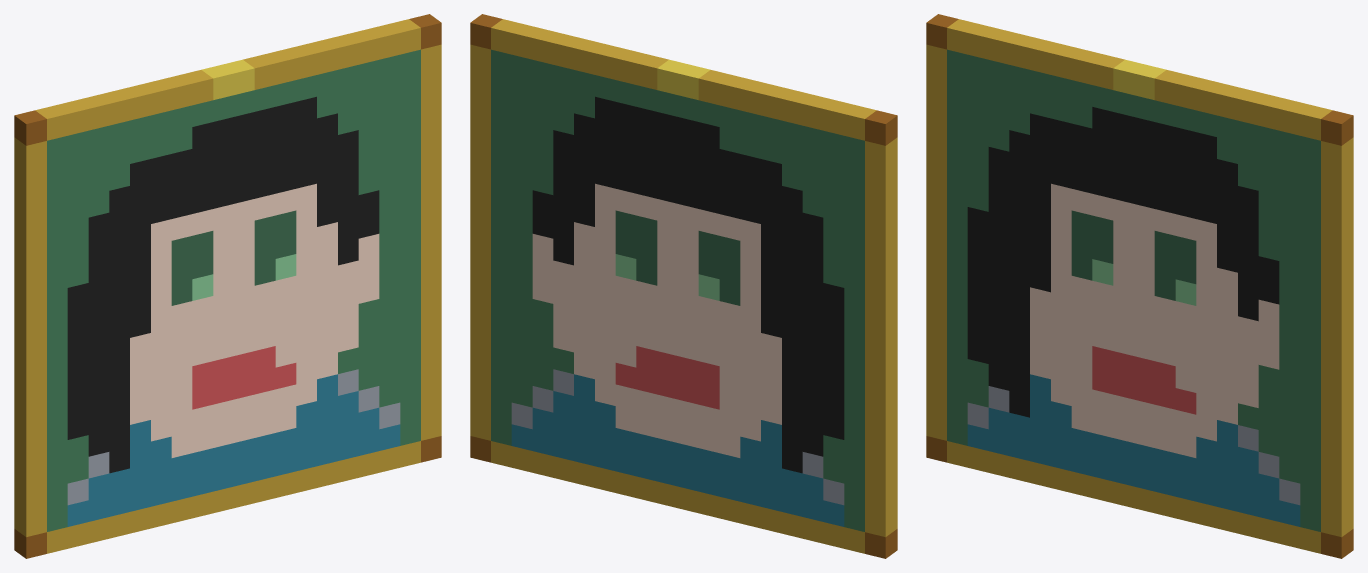
Rendered from portrait6.obj.
3 renders of one model, left to right at view 1: azimuth 30°, elevation 25°; view 2: azimuth 150°, elevation 25°; view 3: azimuth 330°, elevation 25°, orthographic.
Bounding box in the file's own units: 2 × 2 × 0.1.
1 material, 1 textured.
